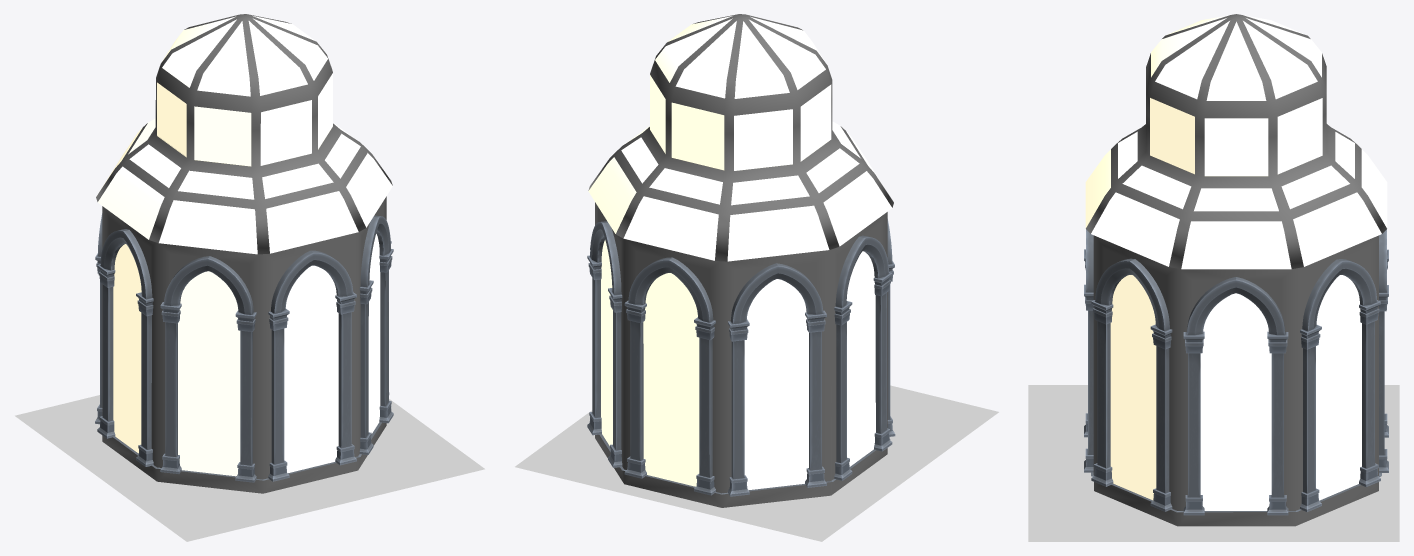
File: GreenHouseFull.fbx
3 views of the same model, side by side, from view 1: azimuth 30°, elevation 25°; view 2: azimuth 150°, elevation 25°; view 3: azimuth 270°, elevation 25° (orthographic). The views are drawn at different scales.
Parts seen in each view (by area): view 1: inside_wall, OutsideWall_v02, Arch_A, Plane; view 2: inside_wall, OutsideWall_v02, Arch_A, Plane; view 3: inside_wall, OutsideWall_v02, Arch_A, Plane.
Part boxes in pixels (x1=…): inside_wall: x1=97, y1=15, x2=392, y2=476; OutsideWall_v02: x1=96, y1=14, x2=392, y2=493; Arch_A: x1=95, y1=213, x2=393, y2=482; Plane: x1=15, y1=395, x2=484, y2=541; inside_wall: x1=588, y1=16, x2=891, y2=490; OutsideWall_v02: x1=588, y1=14, x2=893, y2=507; Arch_A: x1=587, y1=219, x2=895, y2=496; Plane: x1=515, y1=385, x2=998, y2=541; inside_wall: x1=1085, y1=15, x2=1387, y2=510; OutsideWall_v02: x1=1086, y1=14, x2=1386, y2=526; Arch_A: x1=1084, y1=229, x2=1388, y2=515; Plane: x1=1028, y1=385, x2=1399, y2=541.
Size of the model in its own units: 1527 by 2074 by 1527.
Materials: 7 (5 with a texture image).
